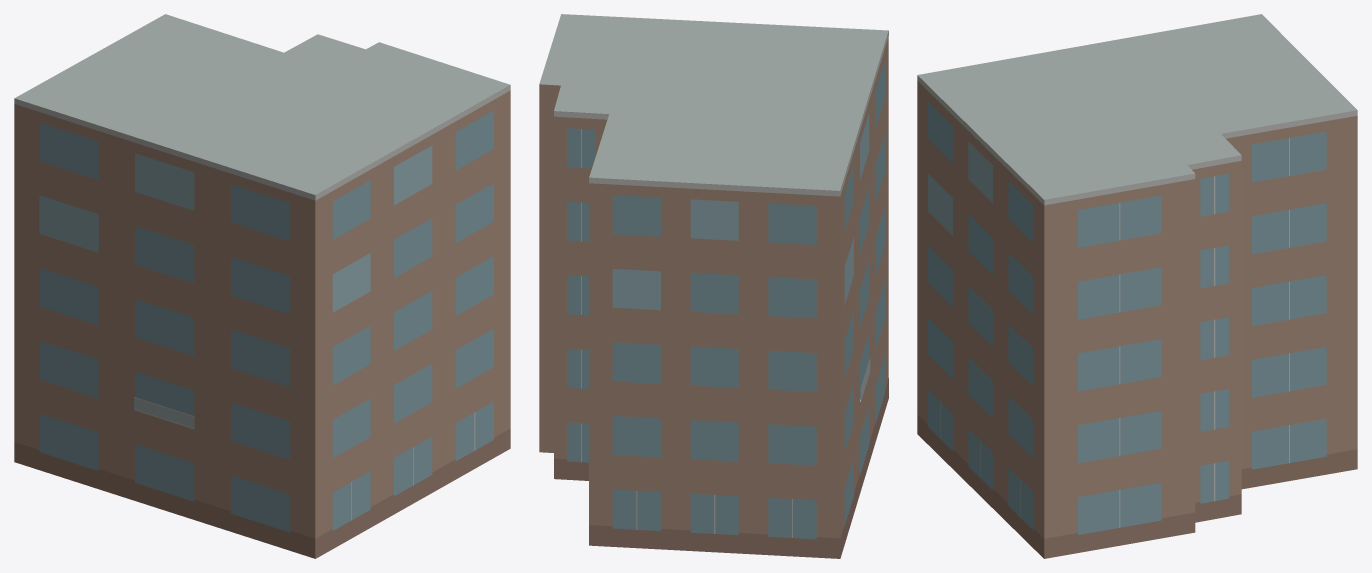
The model's file is survey-upis-32748089.glb.
The picture shows the model from 3 angles, left to right: view 1: azimuth 30°, elevation 25°; view 2: azimuth 150°, elevation 25°; view 3: azimuth 270°, elevation 25°; orthographic projection. The views are drawn at different scales.
Parts seen in each view (by area): view 1: survey-upis-32748089.tmp; view 2: survey-upis-32748089.tmp; view 3: survey-upis-32748089.tmp.
Part boxes in pixels (bbox=[...]): survey-upis-32748089.tmp: bbox=[14, 14, 510, 558]; survey-upis-32748089.tmp: bbox=[539, 14, 888, 558]; survey-upis-32748089.tmp: bbox=[917, 14, 1357, 558].
Size of the model in its own units: 17.78 by 16 by 17.8.
